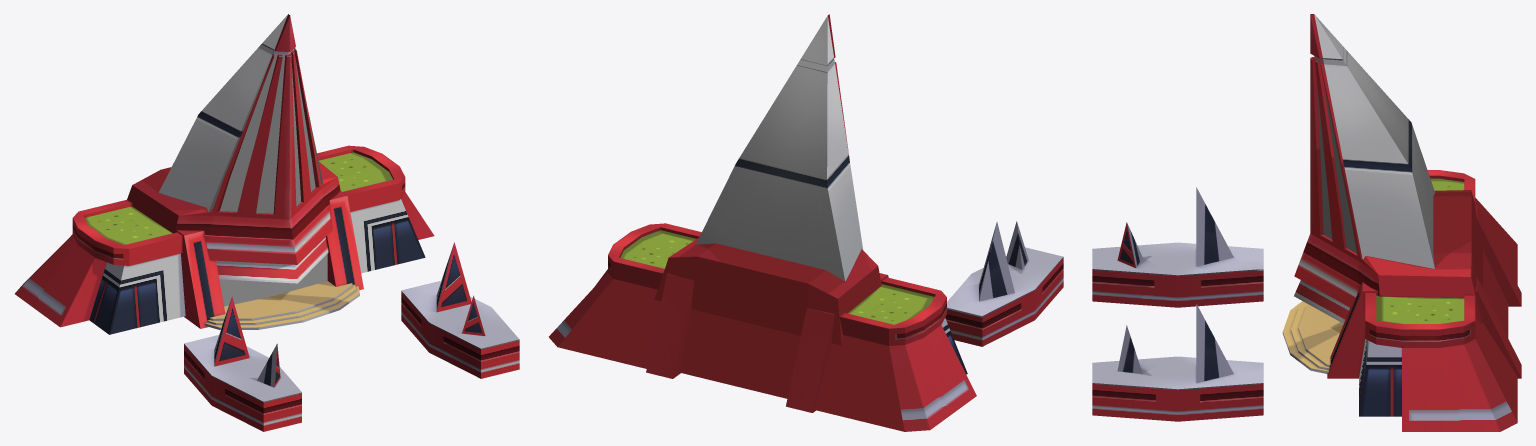
Rendered from RedClan_T2.fbx.
3 views of the same model, side by side, from view 1: azimuth 30°, elevation 25°; view 2: azimuth 150°, elevation 25°; view 3: azimuth 270°, elevation 25° (orthographic). The views are drawn at different scales.
Visible parts, largest first — view 1: T2_MainBuilding, T2_Left_Building, T2_Right_Building, T2_Right_Deco, T2_Left_Deco, T2_Stairs; view 2: T2_MainBuilding, T2_Left_Building, T2_Right_Building, T2_Left_Deco; view 3: T2_MainBuilding, T2_Right_Building, T2_Right_Deco, T2_Left_Deco, T2_Left_Building, T2_Stairs.
Part boxes in pixels (x1,y1,x2,y2): T2_MainBuilding: (127, 14, 340, 306); T2_Left_Building: (15, 200, 225, 334); T2_Right_Building: (317, 145, 434, 290); T2_Right_Deco: (401, 242, 519, 378); T2_Left_Deco: (184, 296, 301, 431); T2_Stairs: (204, 281, 359, 329); T2_MainBuilding: (654, 14, 881, 398); T2_Left_Building: (786, 273, 976, 431); T2_Right_Building: (549, 223, 701, 378); T2_Left_Deco: (945, 221, 1063, 346); T2_MainBuilding: (1294, 14, 1508, 337); T2_Right_Building: (1327, 277, 1521, 431); T2_Right_Deco: (1092, 304, 1263, 421); T2_Left_Deco: (1092, 187, 1263, 307); T2_Left_Building: (1427, 170, 1521, 306); T2_Stairs: (1282, 301, 1343, 373).
Bounding box in the file's own units: 84.29 × 66.94 × 77.88.
Materials: 2 (1 with a texture image).
